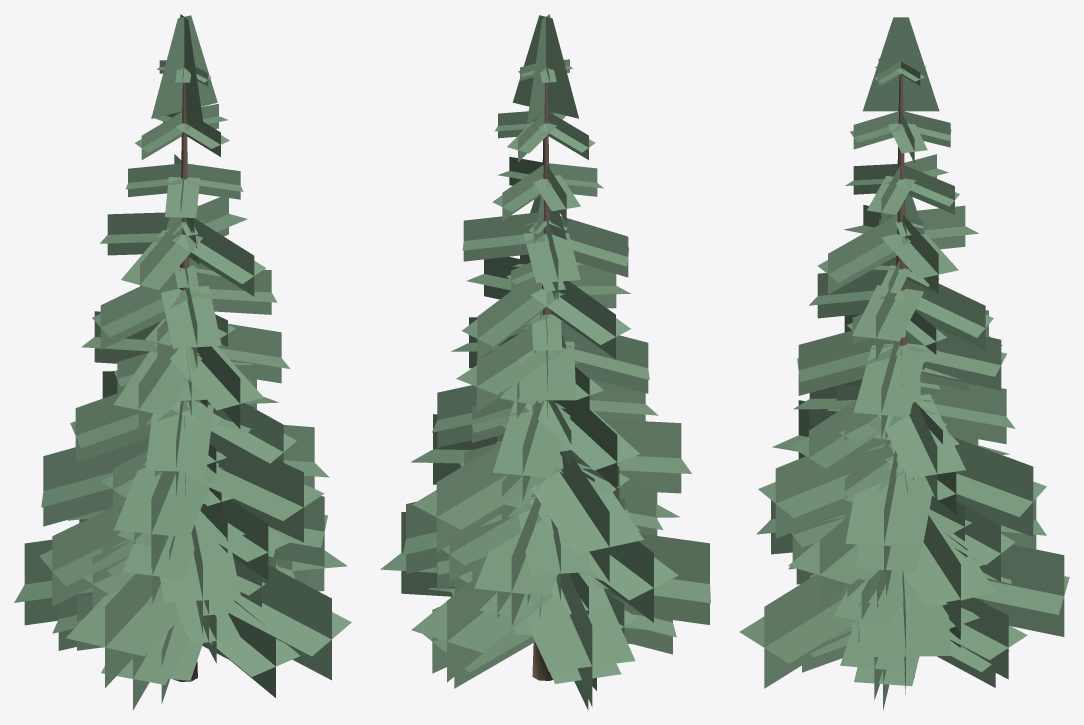
The model's file is baeume.glb.
The picture shows the model from 3 angles, left to right: view 1: azimuth 30°, elevation 25°; view 2: azimuth 150°, elevation 25°; view 3: azimuth 270°, elevation 25°; orthographic projection.
Parts seen in each view (by area): view 1: Zweige1, Zweige0, Zweige2, Stamm1; view 2: Zweige1, Zweige0, Zweige2, Stamm1; view 3: Zweige1, Zweige0, Zweige2, Stamm1.
Boxes of the visible parts, box(x1,y1,x2,y2) form: Zweige1: box(14, 14, 351, 687); Zweige0: box(52, 205, 306, 710); Zweige2: box(77, 347, 277, 703); Stamm1: box(179, 82, 189, 401); Zweige1: box(380, 14, 710, 706); Zweige0: box(423, 195, 676, 710); Zweige2: box(450, 309, 646, 690); Stamm1: box(542, 82, 550, 401); Zweige1: box(739, 17, 1069, 694); Zweige0: box(788, 195, 1027, 699); Zweige2: box(802, 330, 1009, 710); Stamm1: box(896, 75, 906, 345).
Size of the model in its own units: 5.66 by 12.48 by 5.67.
